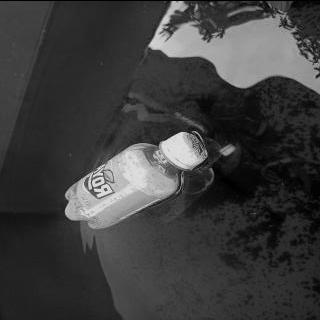bottle: (64, 130, 209, 229)
